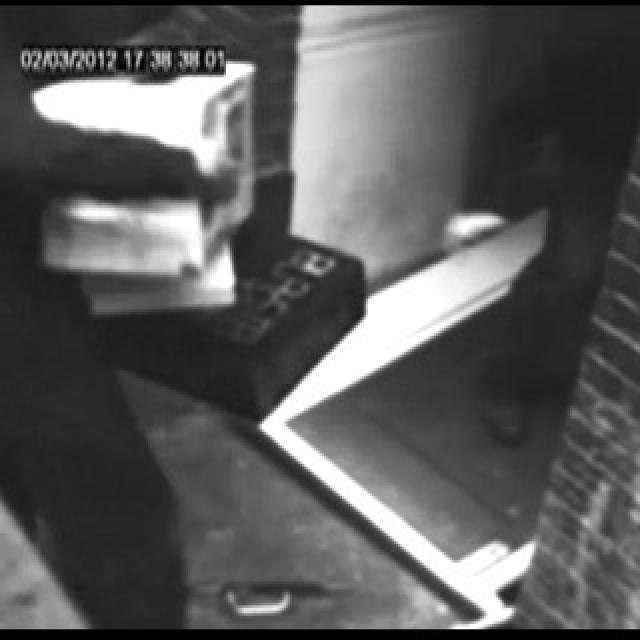thief: (0, 0, 192, 118)
